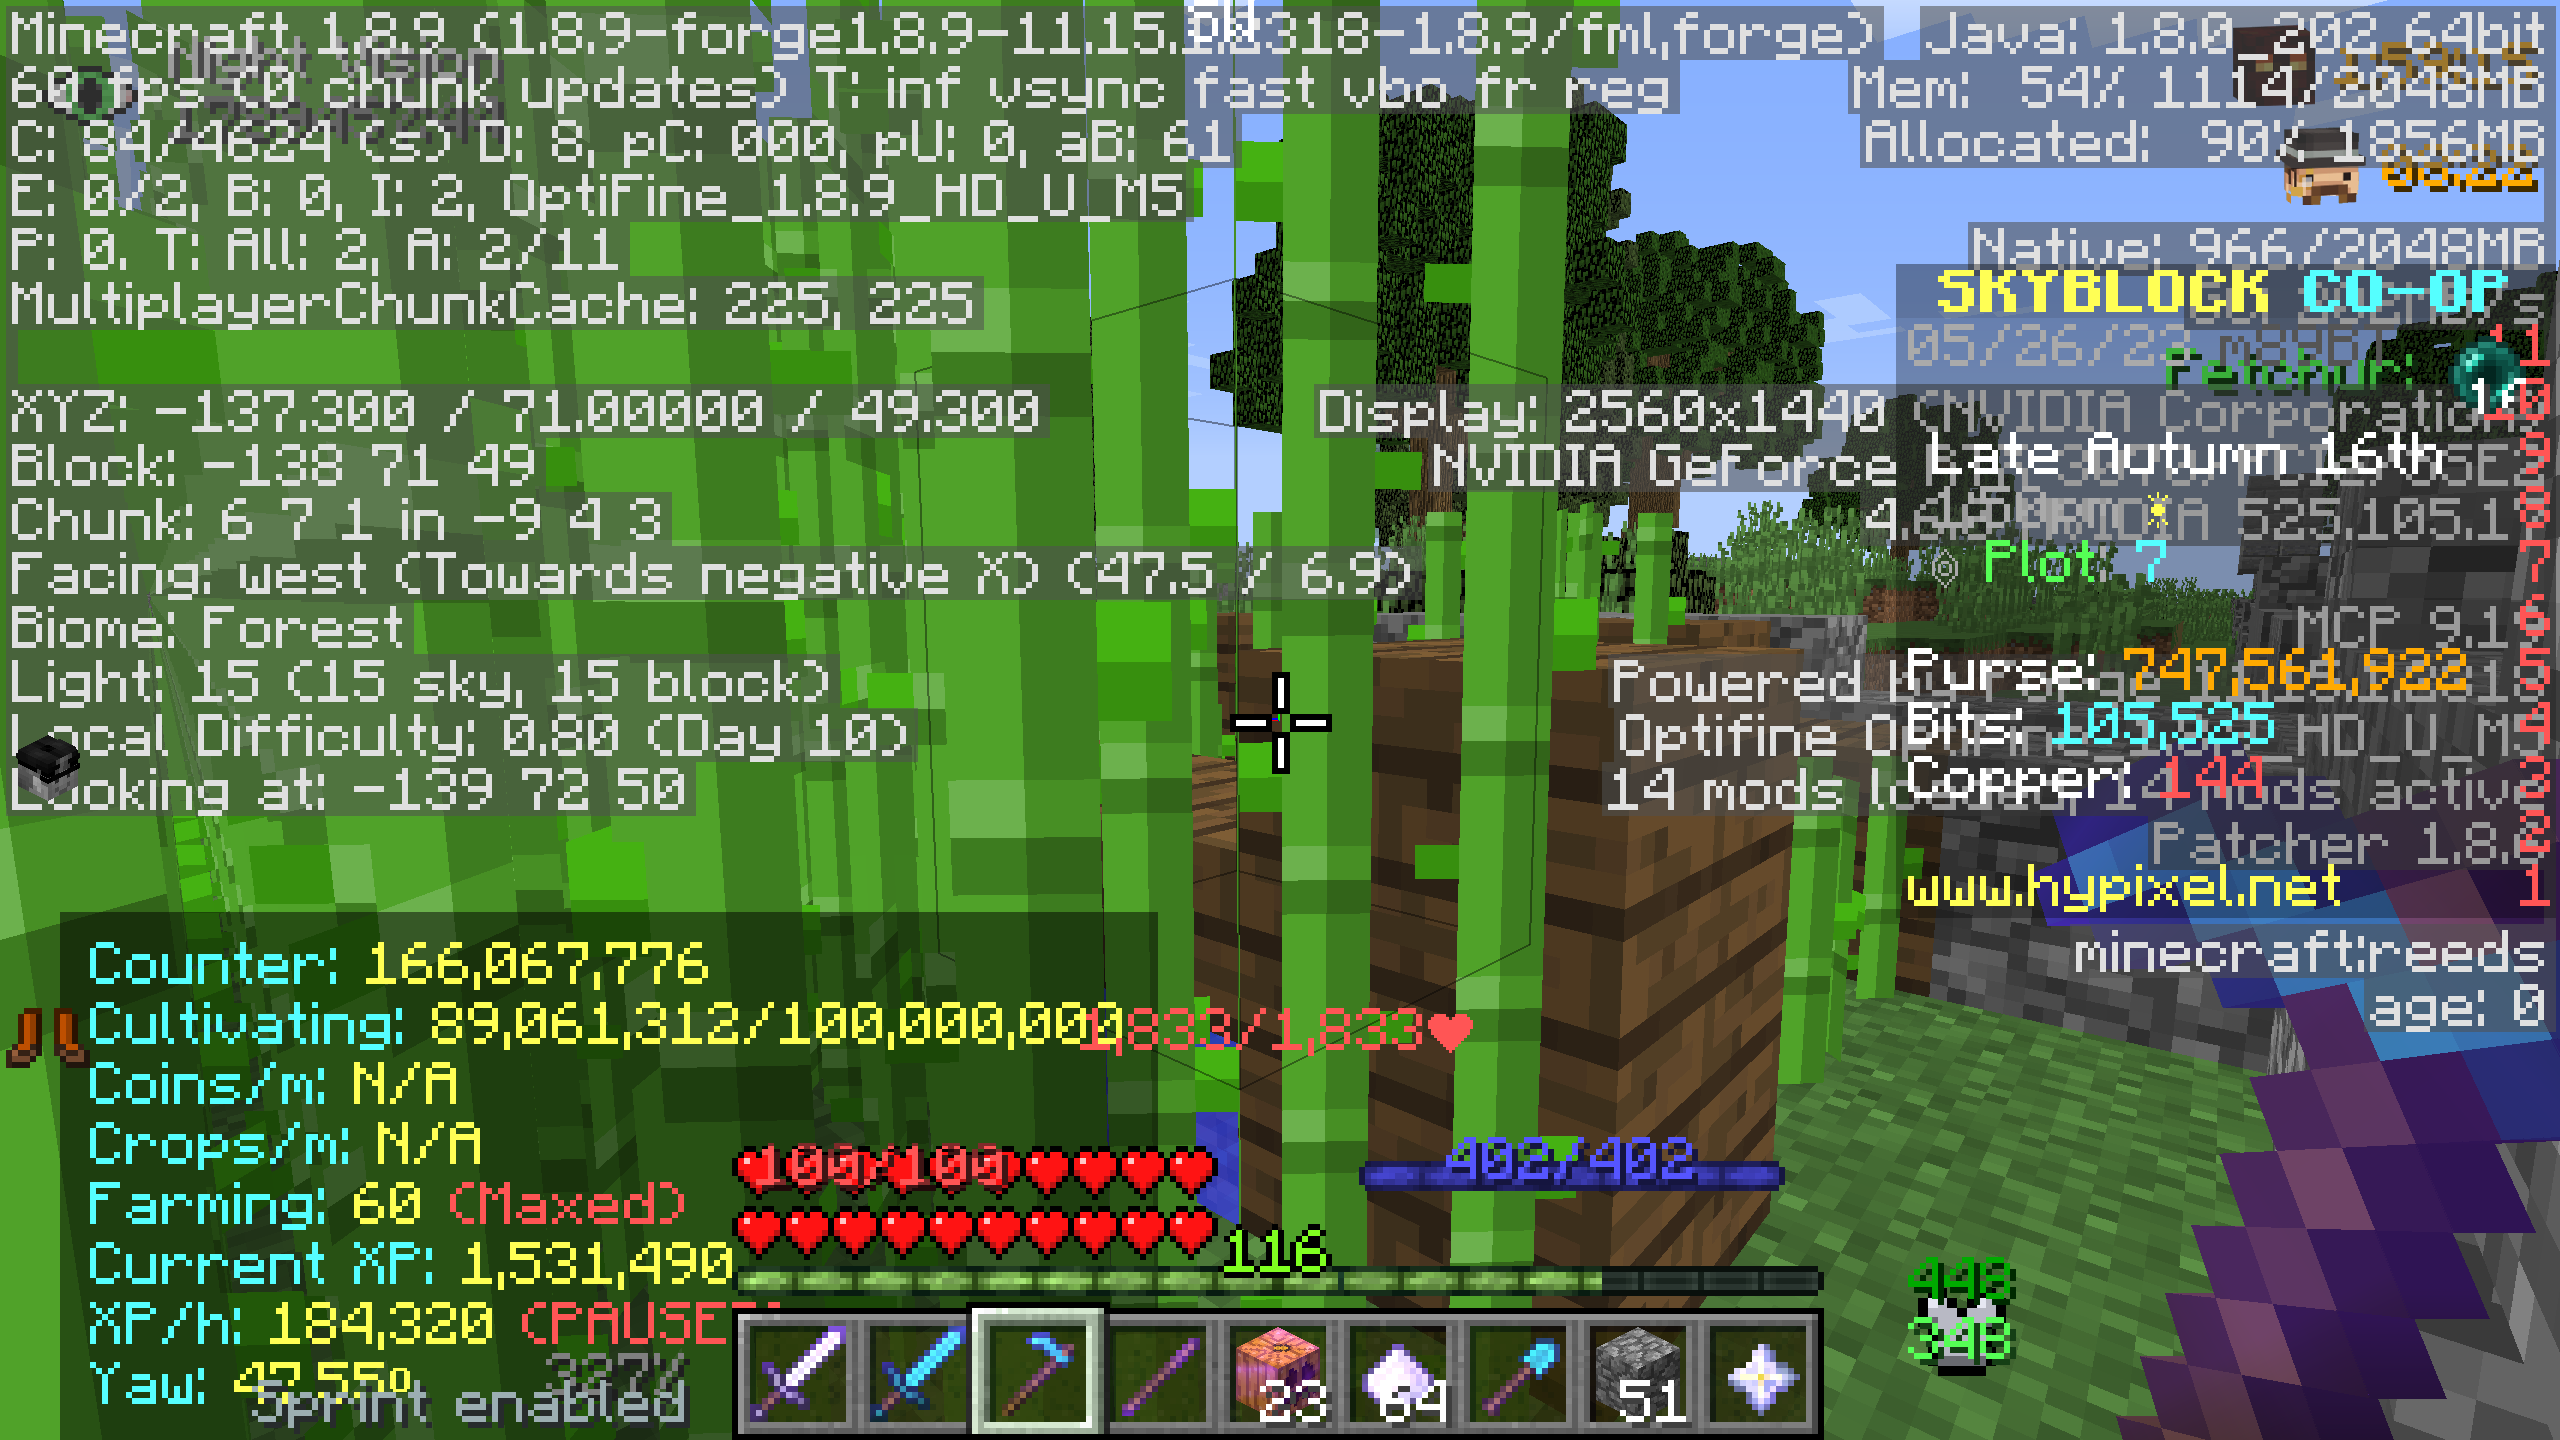coords: (142, 383, 1067, 438)
